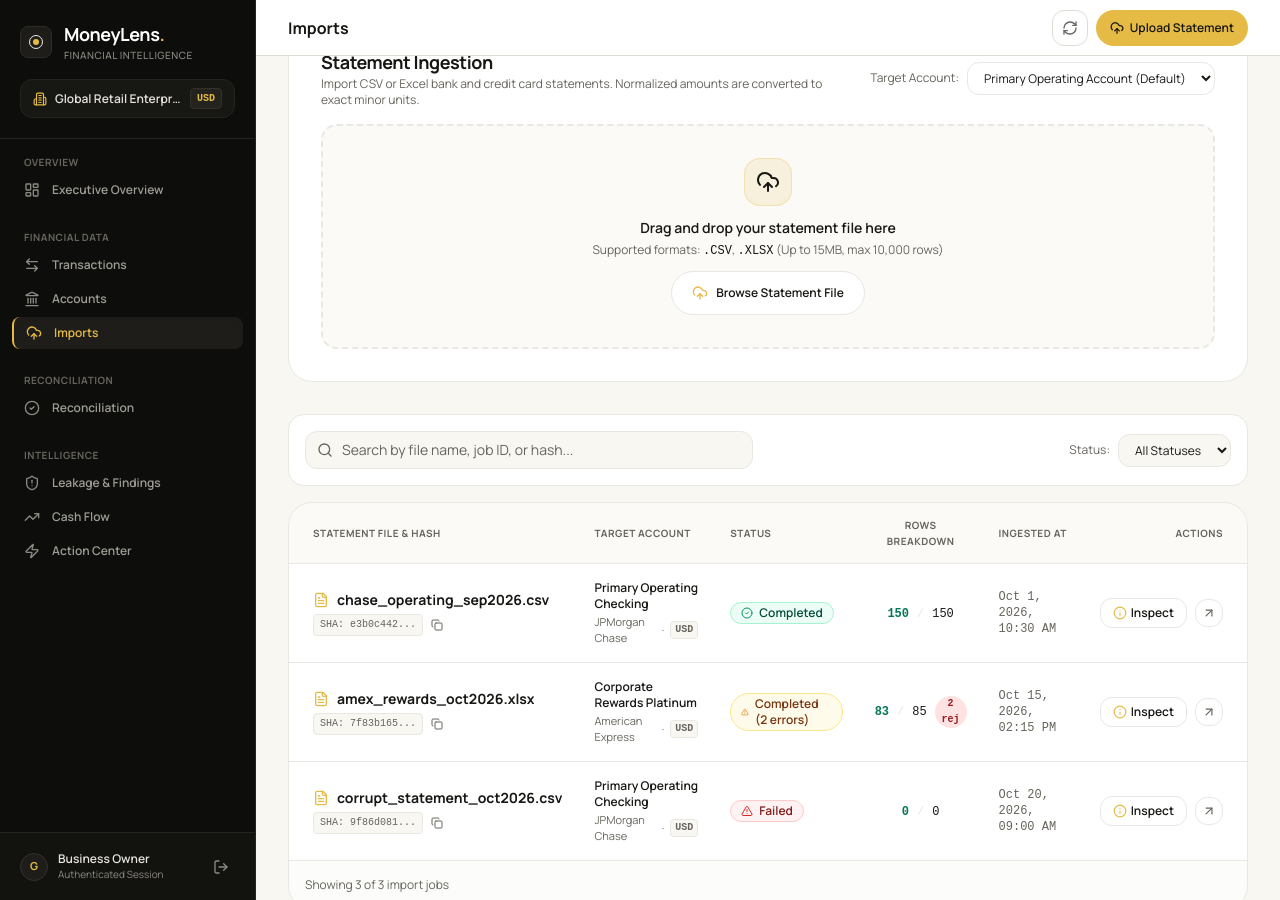
Test: MoneyLens Imports & Import History Page Component Suite › filters import jobs by search term and status filter
The width and height of the screenshot is (1280, 900).
(page scrolled)
Expected: the text "chase_operating_sep2026.csv" is shown, top-left (337, 590), bottom-right (549, 610)
// Search by file name
Type "amex" into the field named "Search import history" at (529, 450), box top-left (305, 431), bottom-right (753, 469)
(page scrolled)
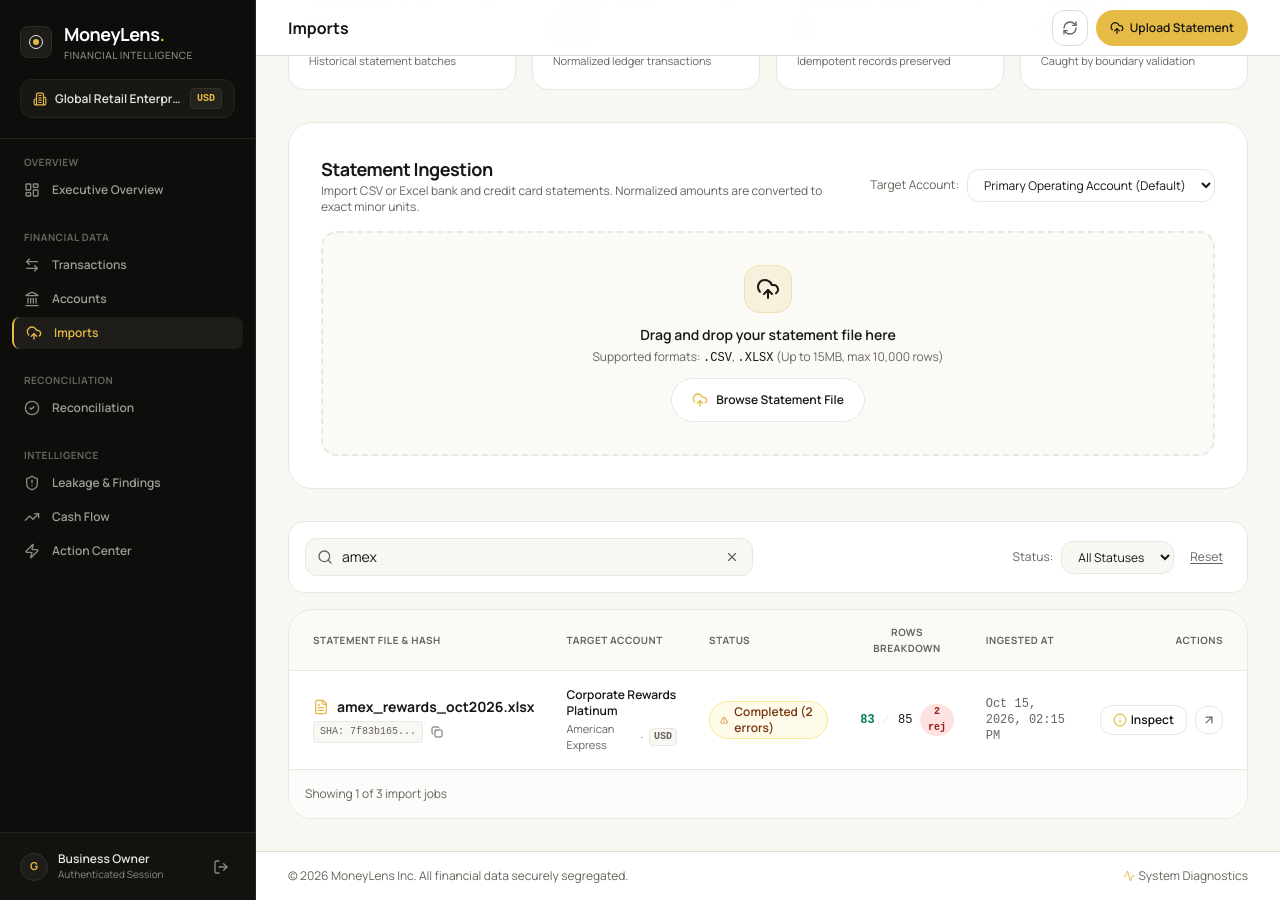
Expected: the text "amex_rewards_oct2026.xlsx" is shown, top-left (337, 697), bottom-right (534, 717)
Expected: the text "chase_operating_sep2026.csv" is gone
Expected: the text "corrupt_statement_oct2026.csv" is gone
// Clear search
Clear the field named "Search import history" at (529, 557), box top-left (305, 538), bottom-right (753, 576)
(page scrolled)
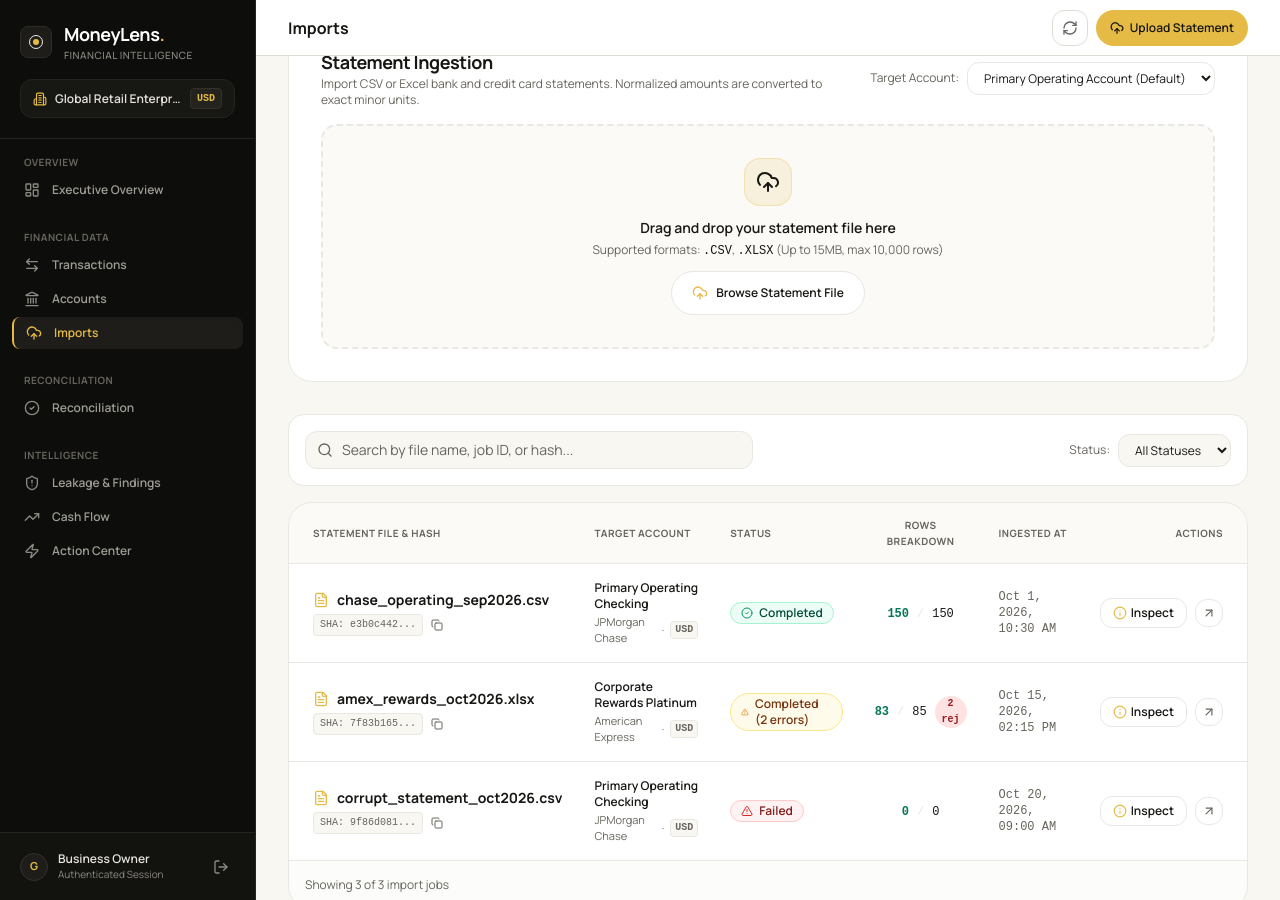
Expected: the text "chase_operating_sep2026.csv" is shown, top-left (337, 590), bottom-right (549, 610)
// Filter by status: failed
Select "Failed" in the dropdown labelled "Status:" at (1174, 450), box top-left (1118, 434), bottom-right (1231, 466)
(page scrolled)
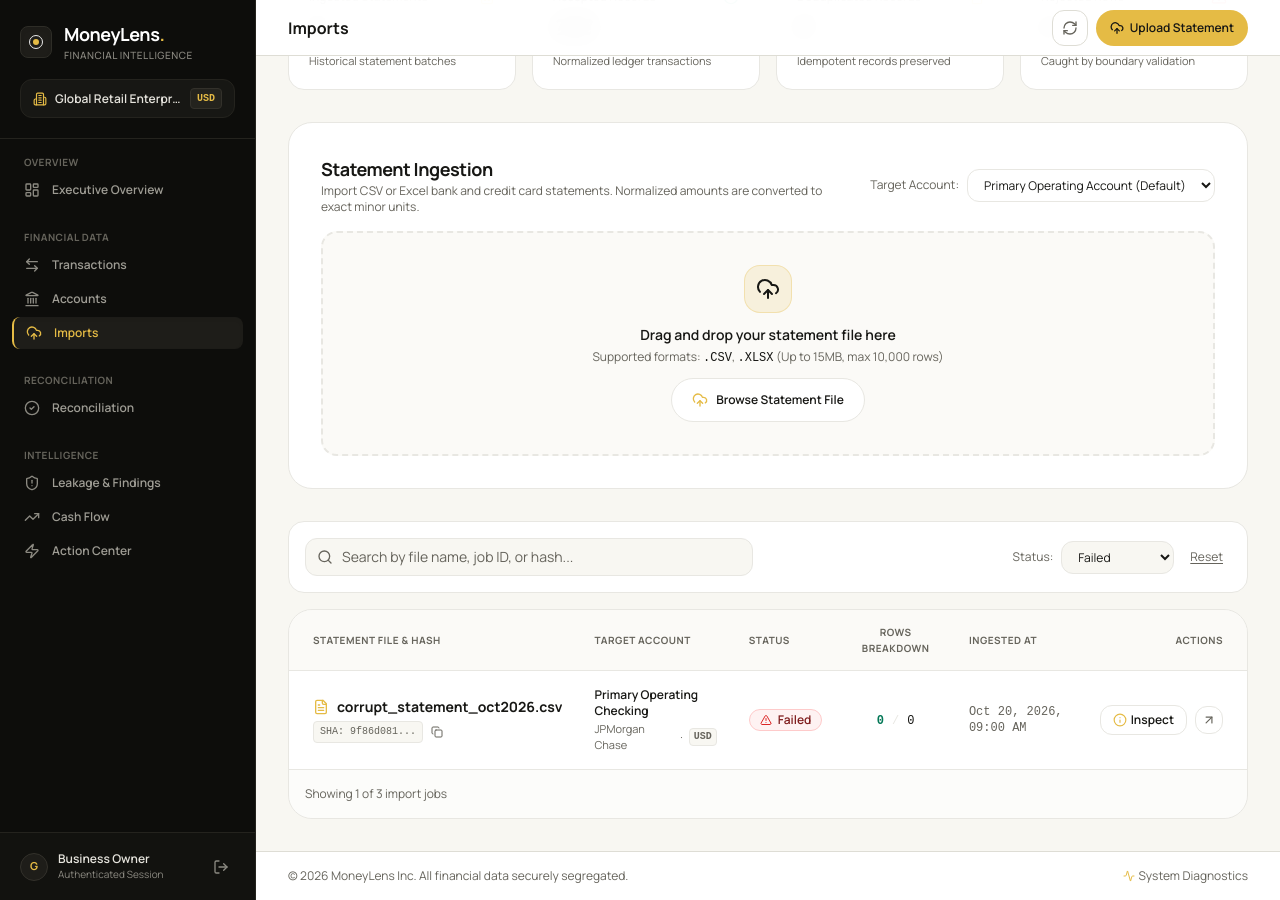
Expected: the text "corrupt_statement_oct2026.csv" is shown, top-left (337, 697), bottom-right (562, 717)
Expected: the text "chase_operating_sep2026.csv" is gone
Expected: the text "amex_rewards_oct2026.xlsx" is gone
// Reset filters
Click the button "Reset" at (1207, 557), box top-left (1182, 545), bottom-right (1231, 569)
(page scrolled)
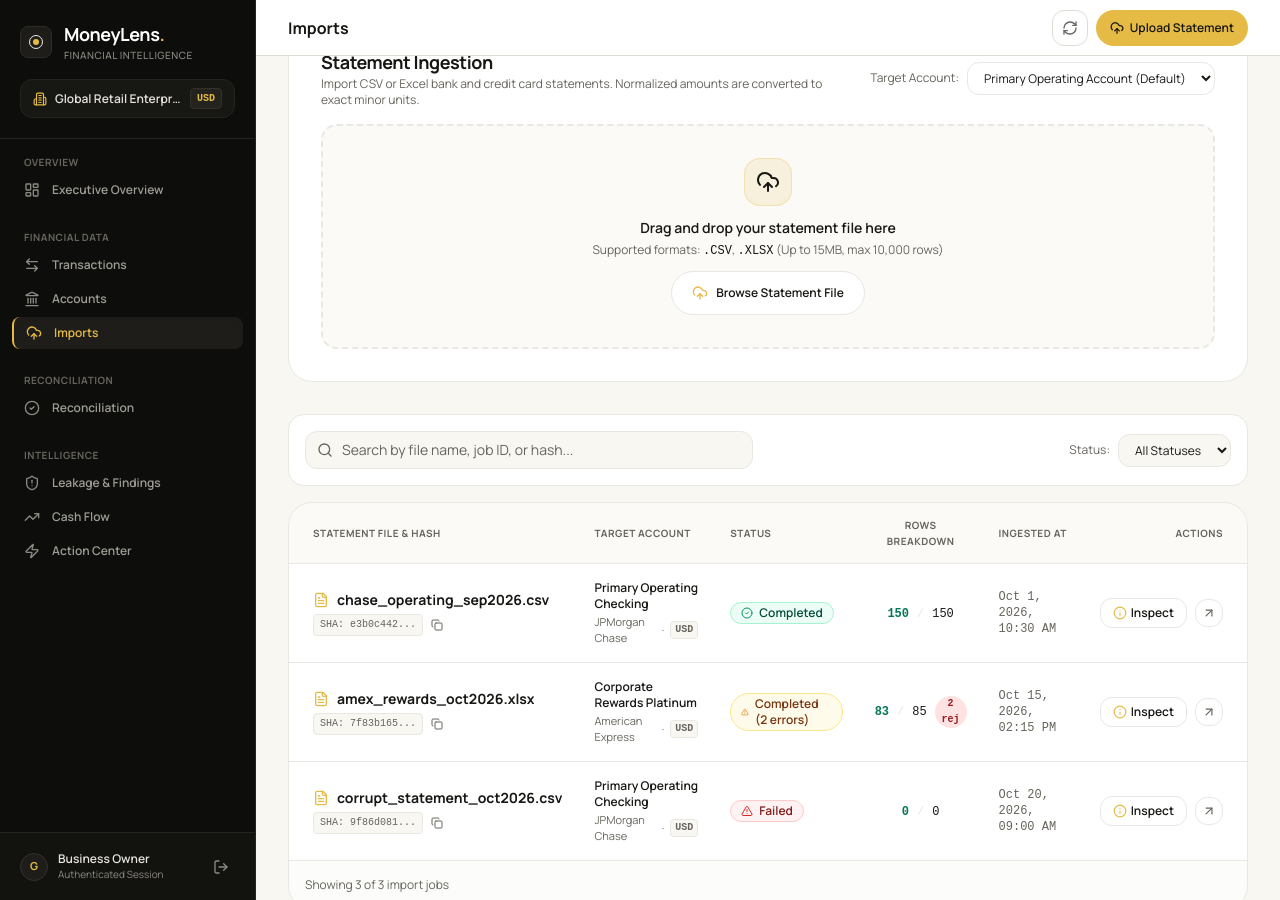
Expected: the text "chase_operating_sep2026.csv" is shown, top-left (337, 590), bottom-right (549, 610)
Expected: the text "amex_rewards_oct2026.xlsx" is shown, top-left (337, 689), bottom-right (534, 709)
